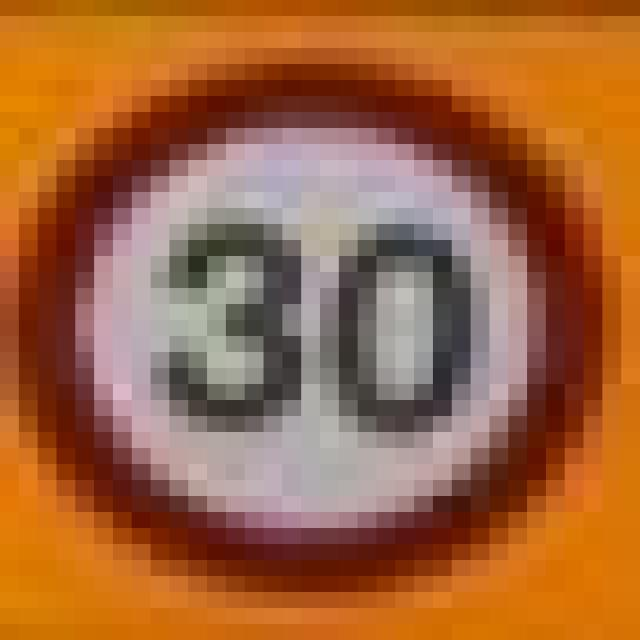traffic_sign: (19, 48, 583, 576)
